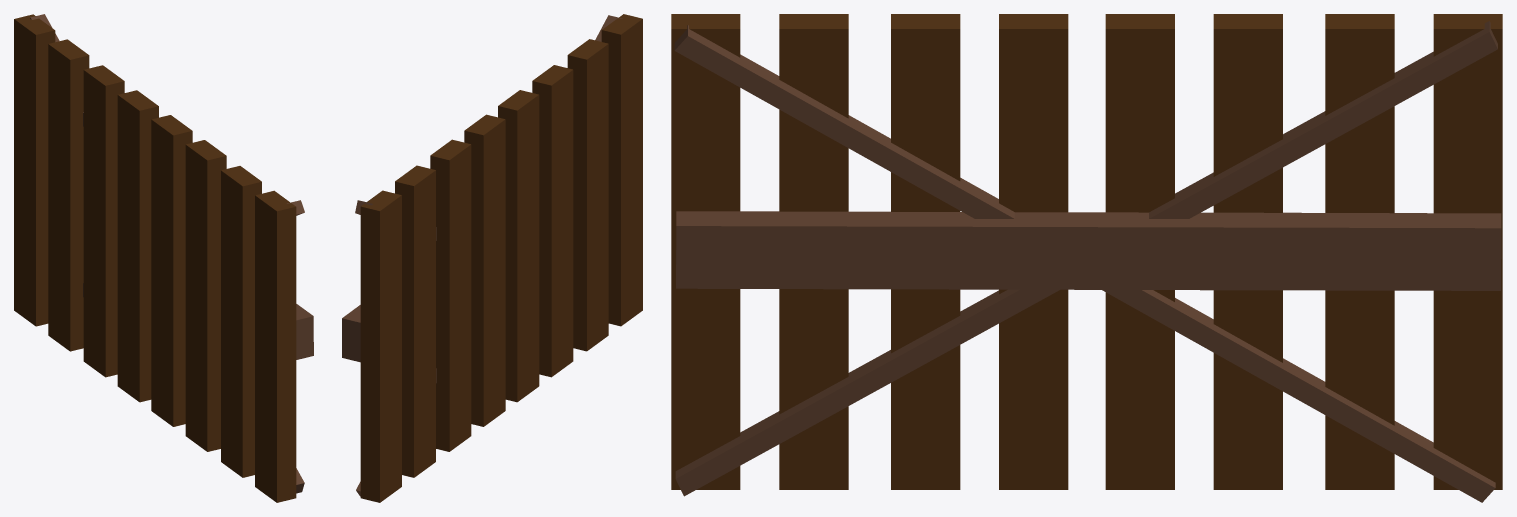
File: EpicAed.fbx
The picture shows the model from 3 angles, left to right: view 1: azimuth 30°, elevation 25°; view 2: azimuth 150°, elevation 25°; view 3: azimuth 270°, elevation 25°; orthographic projection. The views are drawn at different scales.
Visible parts, largest first — view 1: Cube.007, Cube.005, Cube.001, Cube.002, Cube.003, Cube.004, Cube, Cube.006, Cube.008; view 2: Cube, Cube.006, Cube.002, Cube.003, Cube.005, Cube.007, Cube.004, Cube.001, Cube.008; view 3: Cube.008, Cube.004, Cube.003, Cube, Cube.007, Cube.001, Cube.002, Cube.005, Cube.006, Cube.009, Cube.010.
Part boxes in pixels (<box>): Cube.007: <box>255,190,296,502</box>; Cube.005: <box>185,140,226,451</box>; Cube.001: <box>48,39,89,351</box>; Cube.002: <box>83,65,124,377</box>; Cube.003: <box>117,90,158,402</box>; Cube.004: <box>151,115,192,426</box>; Cube: <box>14,14,55,326</box>; Cube.006: <box>221,166,261,477</box>; Cube.008: <box>296,304,313,359</box>; Cube: <box>360,190,401,502</box>; Cube.006: <box>567,39,608,351</box>; Cube.002: <box>430,139,471,451</box>; Cube.003: <box>464,114,505,426</box>; Cube.005: <box>532,65,573,377</box>; Cube.007: <box>601,14,642,326</box>; Cube.004: <box>498,90,539,402</box>; Cube.001: <box>395,165,435,477</box>; Cube.008: <box>342,305,360,362</box>; Cube.008: <box>676,211,1501,290</box>; Cube.004: <box>999,14,1068,489</box>; Cube.003: <box>1105,14,1174,489</box>; Cube: <box>1433,14,1502,489</box>; Cube.007: <box>671,14,740,489</box>; Cube.001: <box>1325,14,1394,489</box>; Cube.002: <box>1213,14,1282,489</box>; Cube.005: <box>891,14,960,489</box>; Cube.006: <box>779,14,848,489</box>; Cube.009: <box>675,21,1497,496</box>; Cube.010: <box>674,25,1495,502</box>.
Bounding box in the file's own units: 48.67 × 361 × 577.
